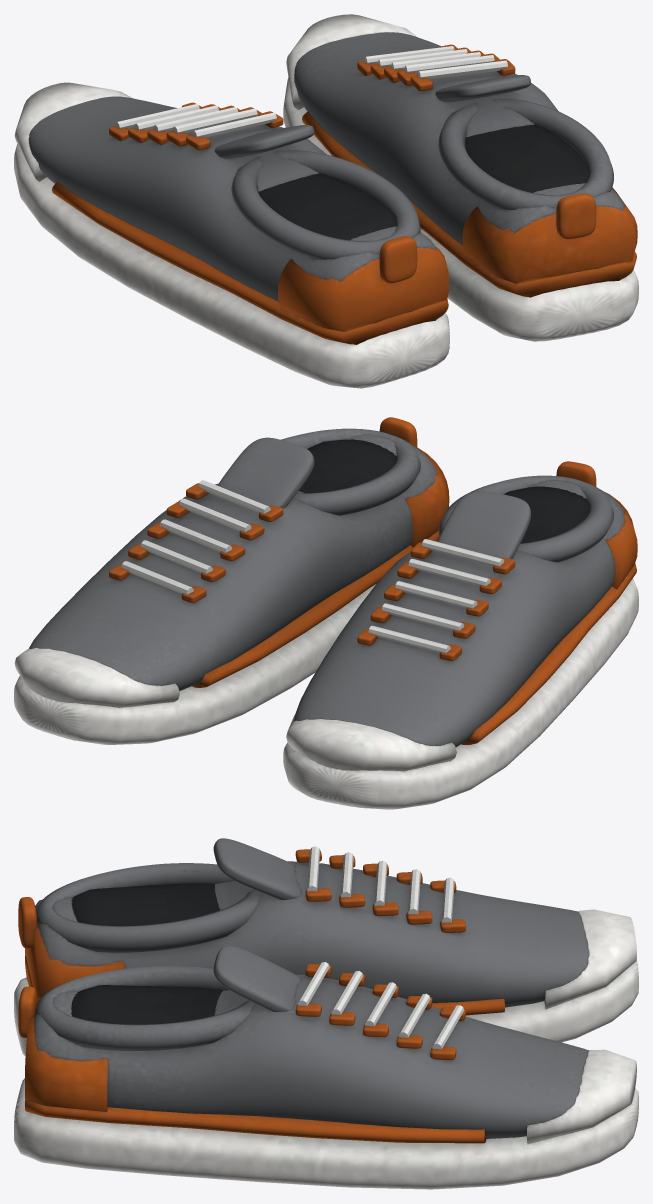
Rendered from grey-orange.glb.
3 views of the same model, one above another, from view 1: azimuth 30°, elevation 25°; view 2: azimuth 150°, elevation 25°; view 3: azimuth 270°, elevation 25° (orthographic). The views are drawn at different scales.
Visible parts, largest first — view 1: fabric_primary_upper, sole_rubber, accent, lining_dark, laces; view 2: fabric_primary_upper, sole_rubber, accent, laces, lining_dark; view 3: fabric_primary_upper, sole_rubber, accent, lining_dark, laces.
Boxes of the visible parts, x1=… form: fabric_primary_upper: x1=28, y1=32, x2=624, y2=301; sole_rubber: x1=14, y1=14, x2=638, y2=388; accent: x1=52, y1=44, x2=637, y2=344; lining_dark: x1=258, y1=124, x2=590, y2=240; laces: x1=115, y1=46, x2=507, y2=137; fabric_primary_upper: x1=29, y1=428, x2=625, y2=747; sole_rubber: x1=14, y1=578, x2=638, y2=809; accent: x1=109, y1=417, x2=637, y2=744; laces: x1=121, y1=480, x2=504, y2=653; lining_dark: x1=299, y1=439, x2=590, y2=543; fabric_primary_upper: x1=34, y1=838, x2=589, y2=1138; sole_rubber: x1=14, y1=909, x2=638, y2=1189; accent: x1=18, y1=849, x2=504, y2=1143; lining_dark: x1=71, y1=883, x2=222, y2=1024; laces: x1=297, y1=846, x2=464, y2=1049.
Size of the model in its own units: 0.2458 by 0.0997 by 0.2957.
5 materials, 5 textured.
